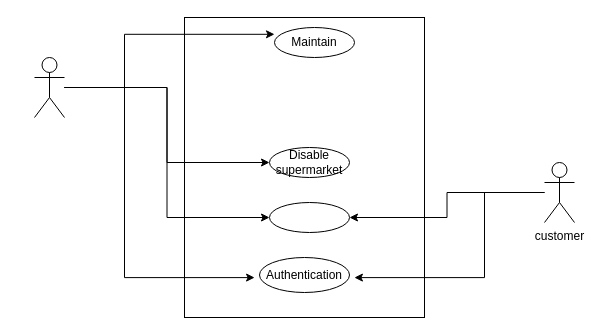
Image size: 601x335. Some labels were removed from this diagram. Here are the shapes that lost their labels. From the top down, the centre of each, then its label:
(49,87): salesperson
(309,217): purchase
